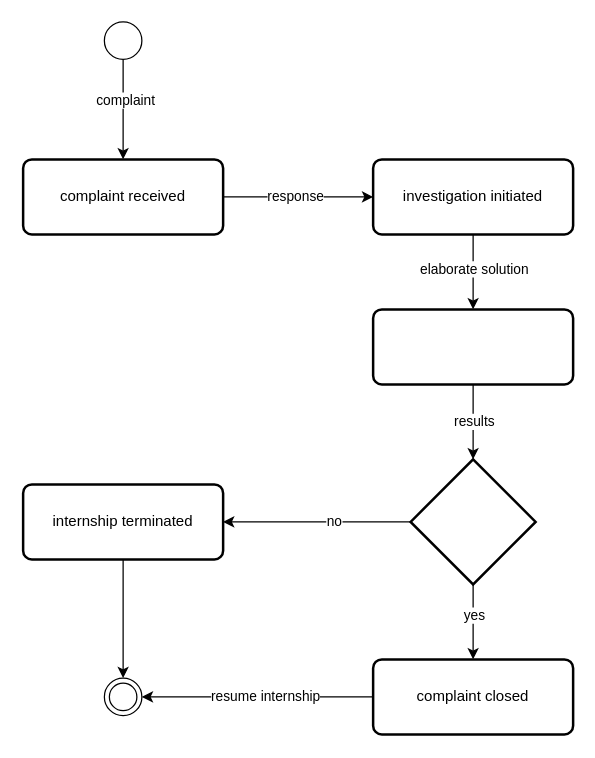
Image size: 595x758. Some labels were removed from this diagram. The box of each missing label's shape, as (x1, y1, x2, y2) in pixels:
accepted: (409, 458, 536, 585)
solution proposed: (371, 308, 574, 385)
